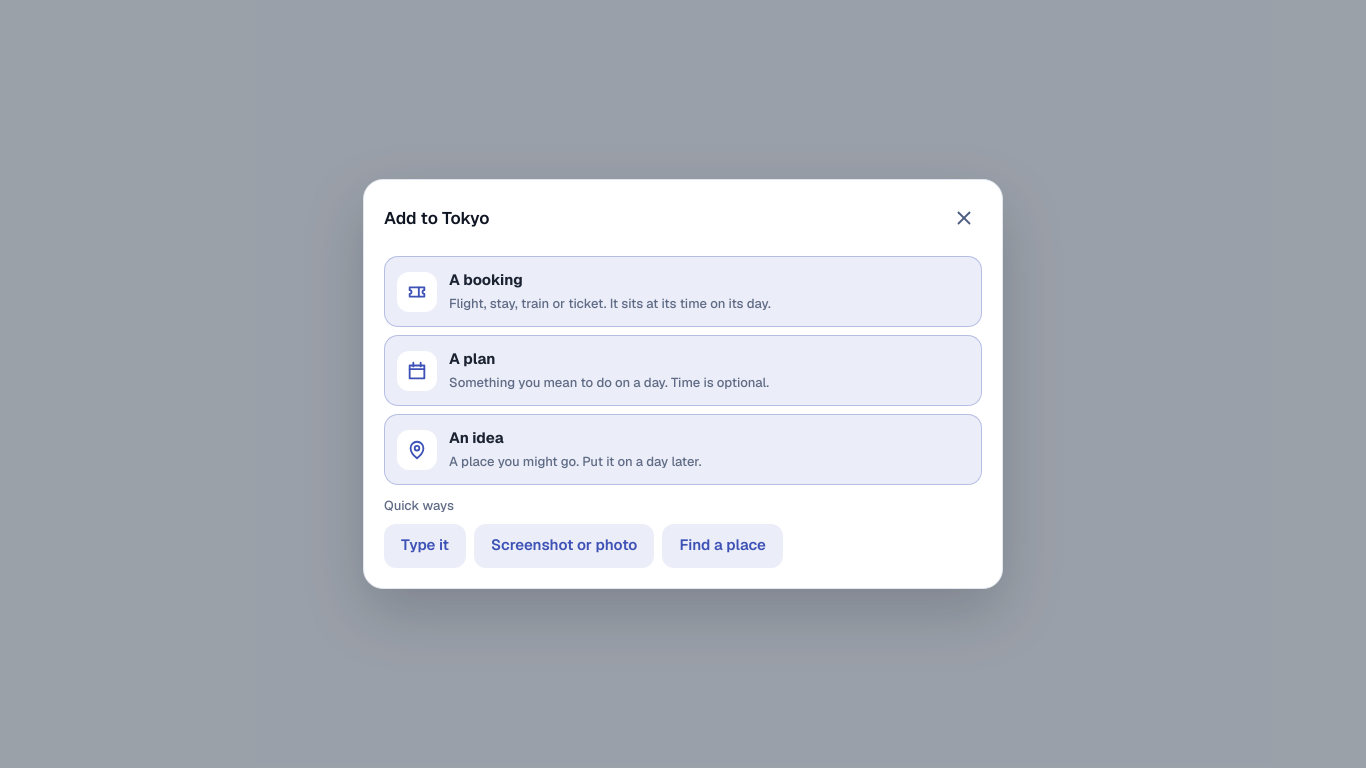
Scenario: the add sheet › offers Type it to a member of someone's trip, and says which trip it is
Click the button "Type it" at (425, 546), box [384,524,466,568]
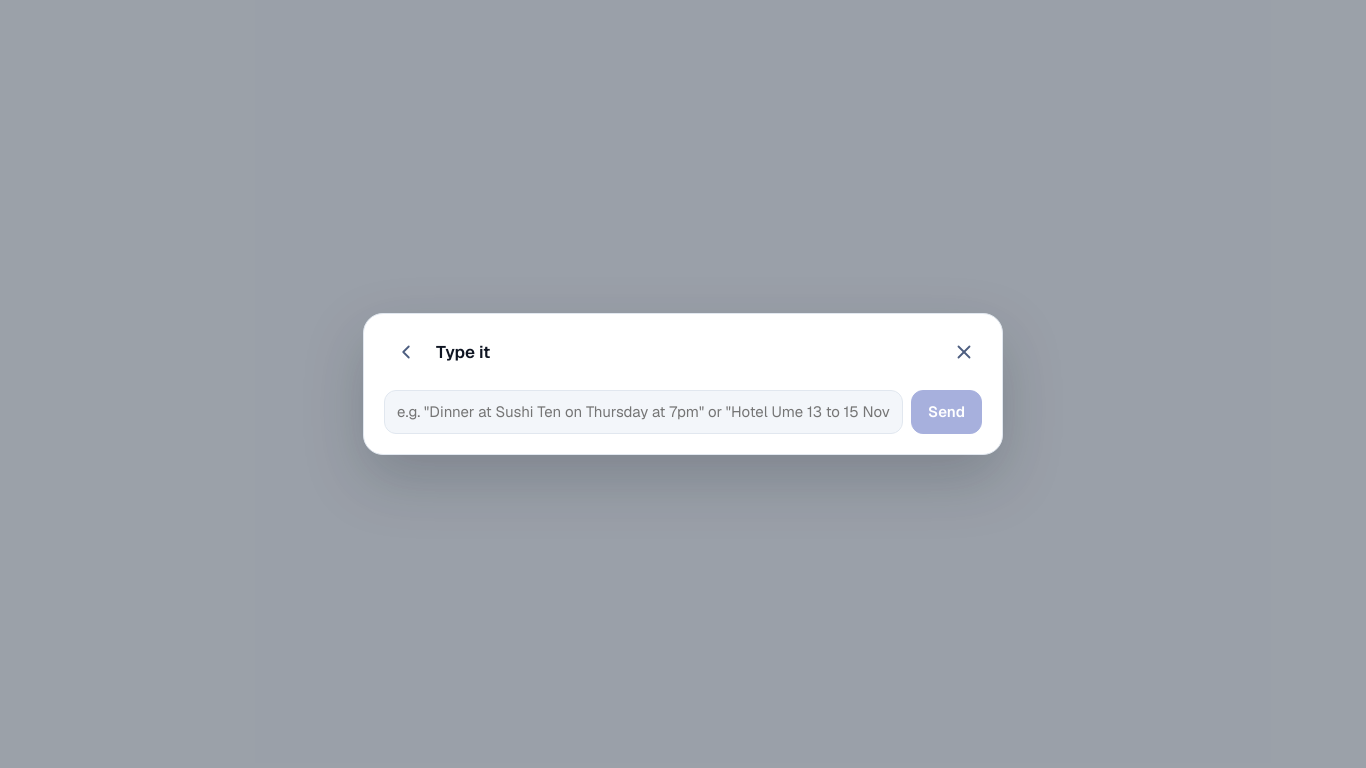
Type "Dinner at Sushi Ten on Saturday at 7pm" into the field named "Tell Nexus about a booking" at (644, 412), box [384,390,903,434]
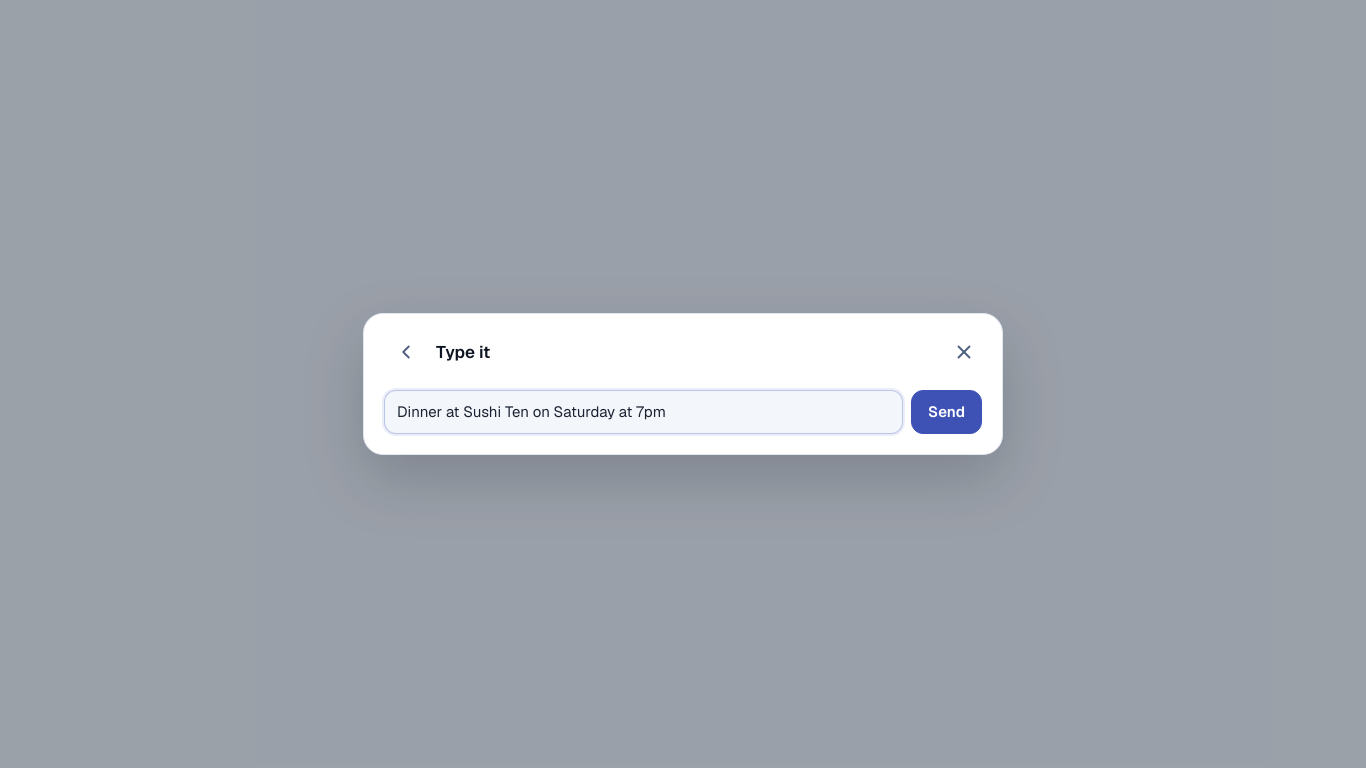
Click the button "Send" at (946, 412), box [911,390,982,434]
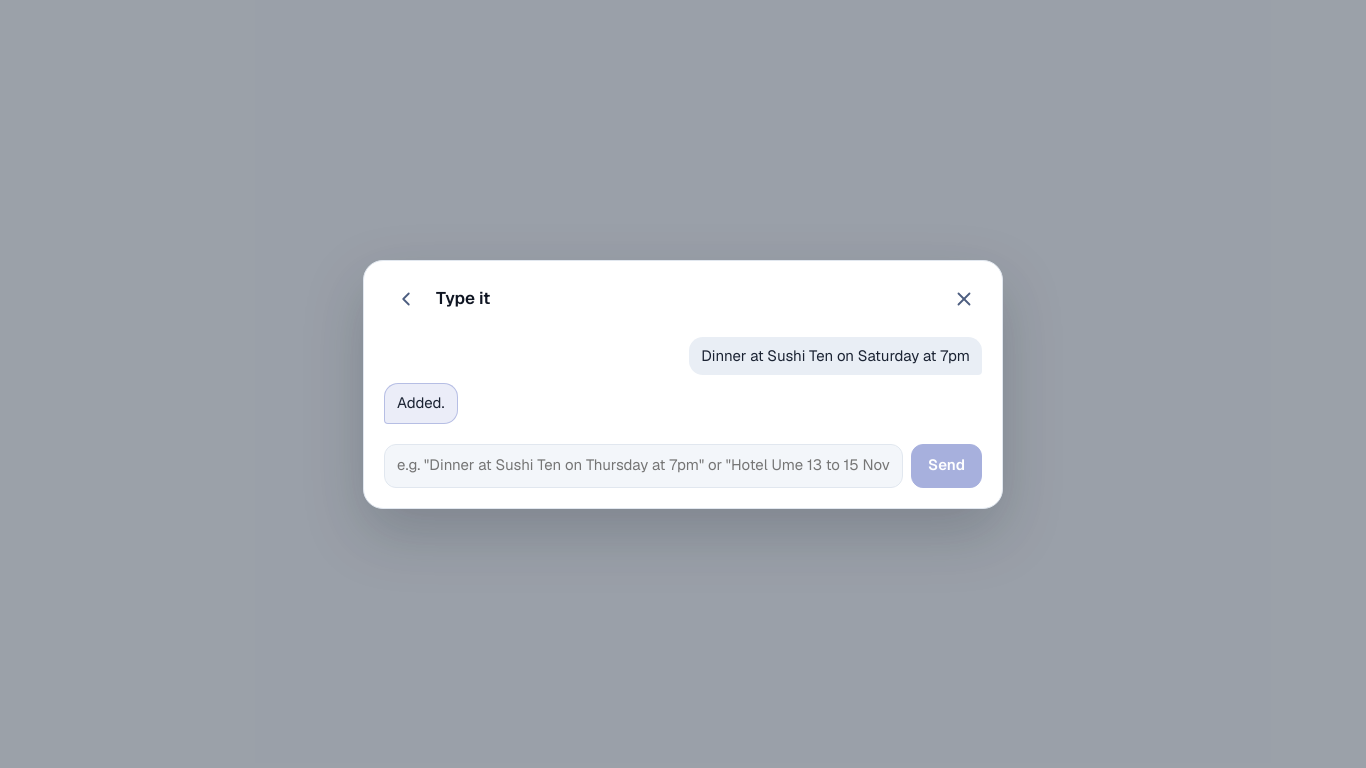
expect the text "Added." is shown: met, box [397,392,444,414]
